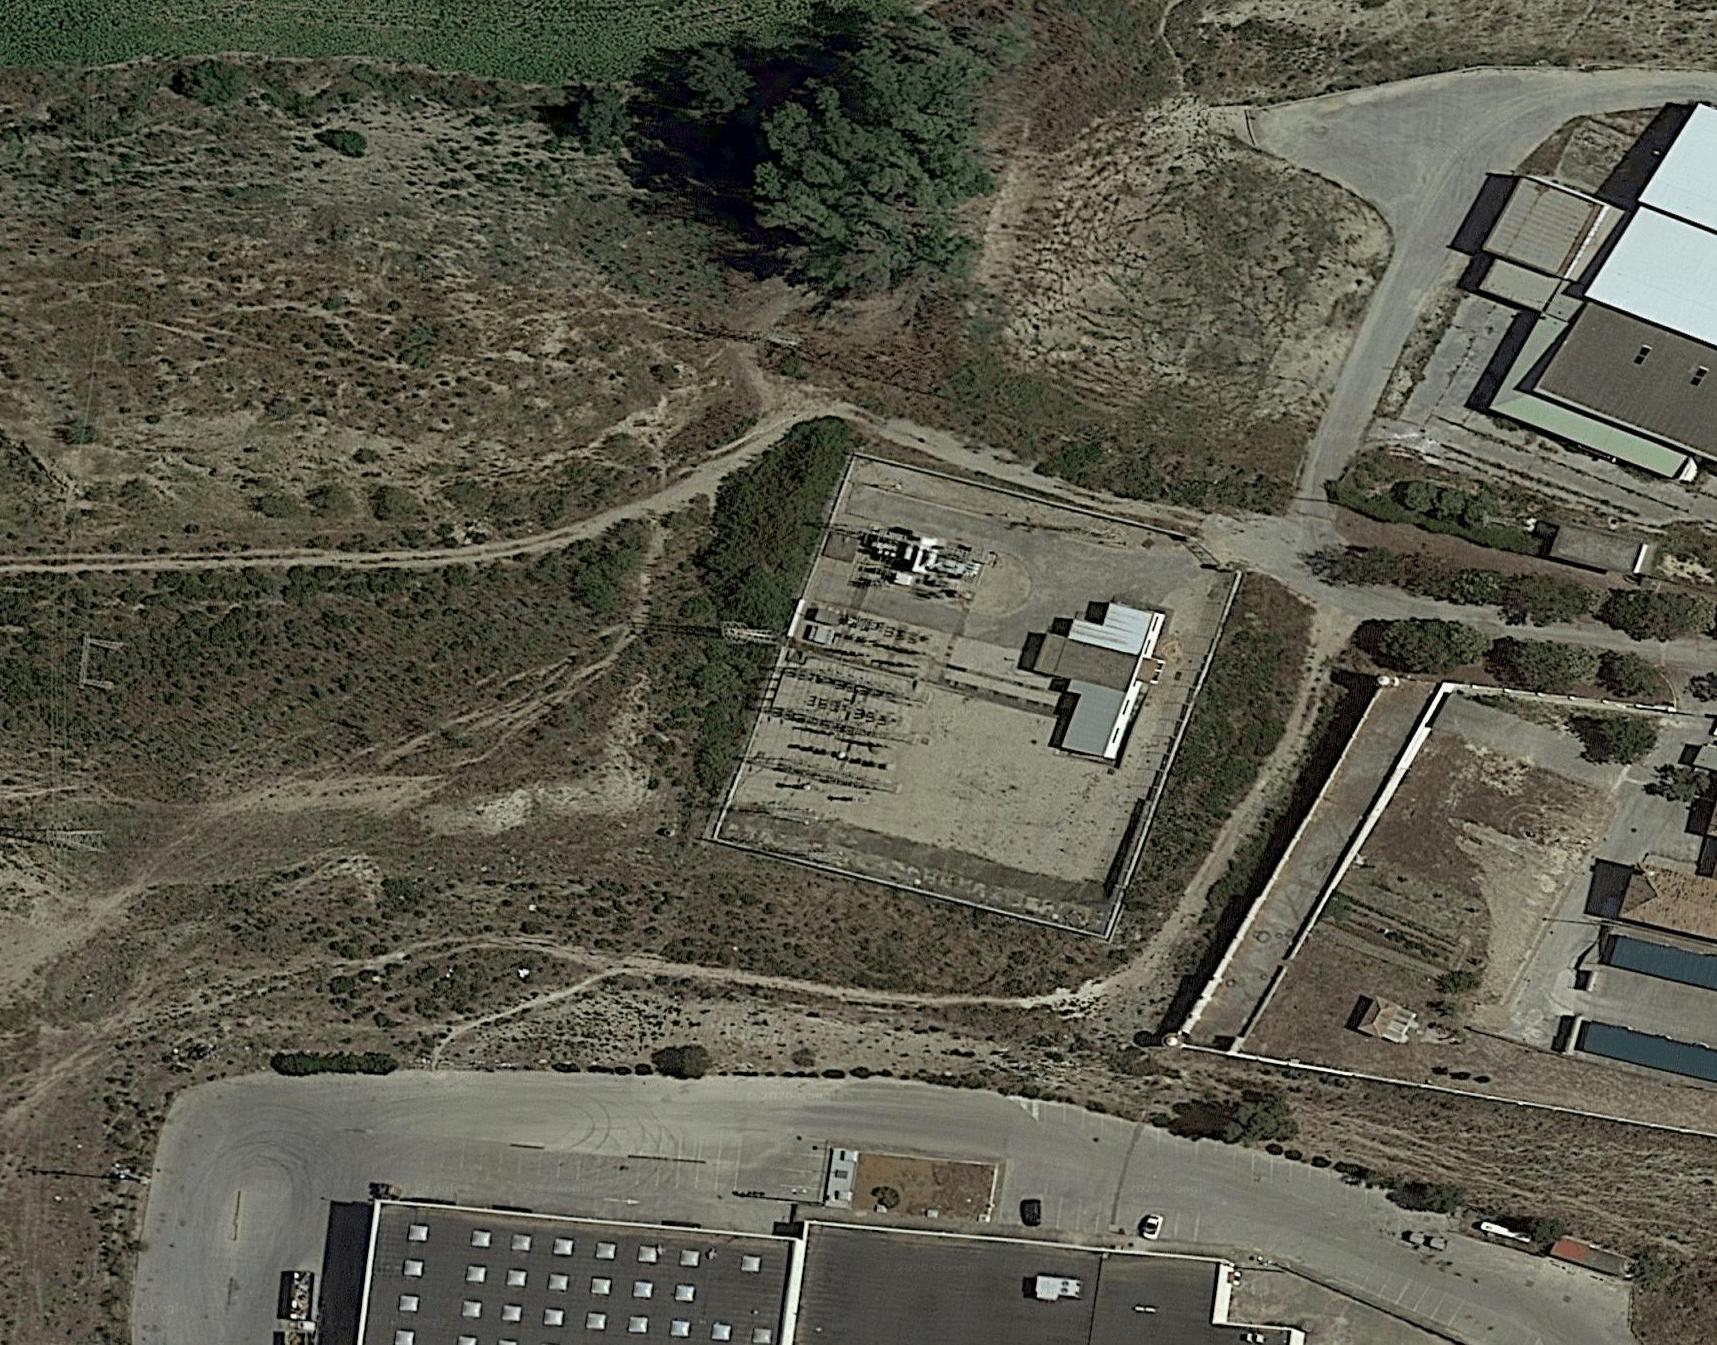substation: (714, 514, 1008, 818)
